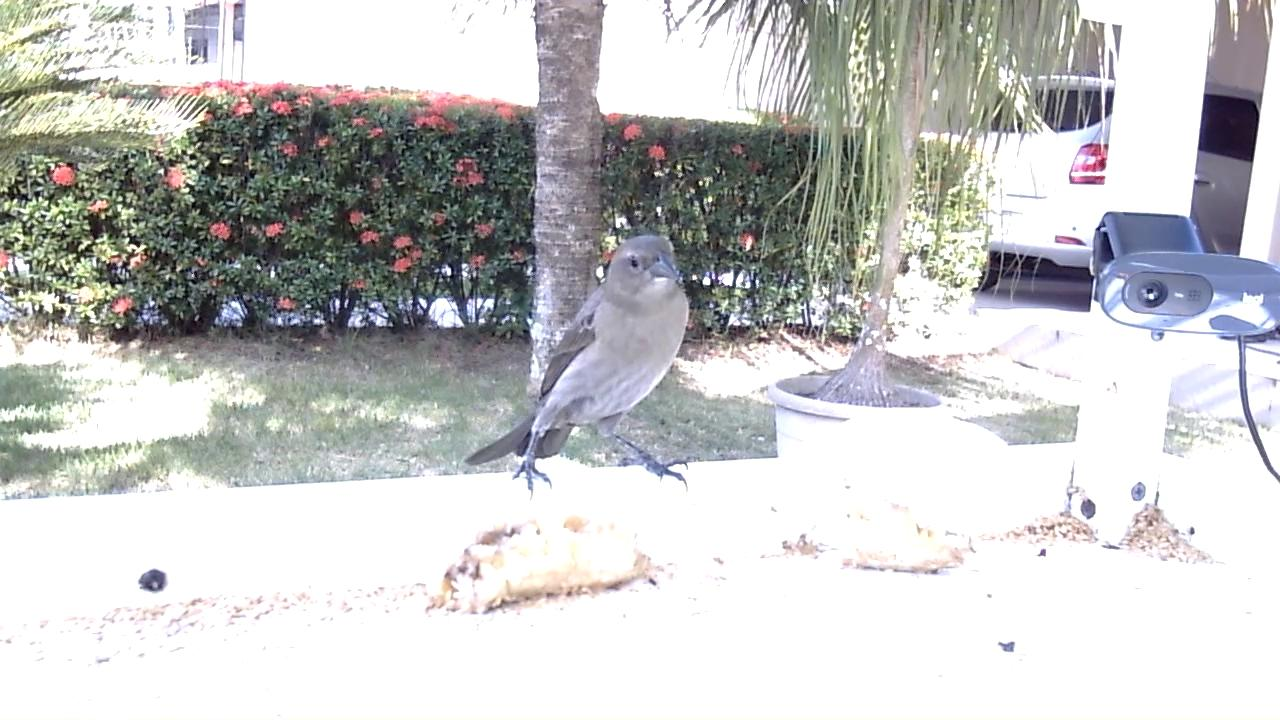chupim: (463, 233, 695, 506)
